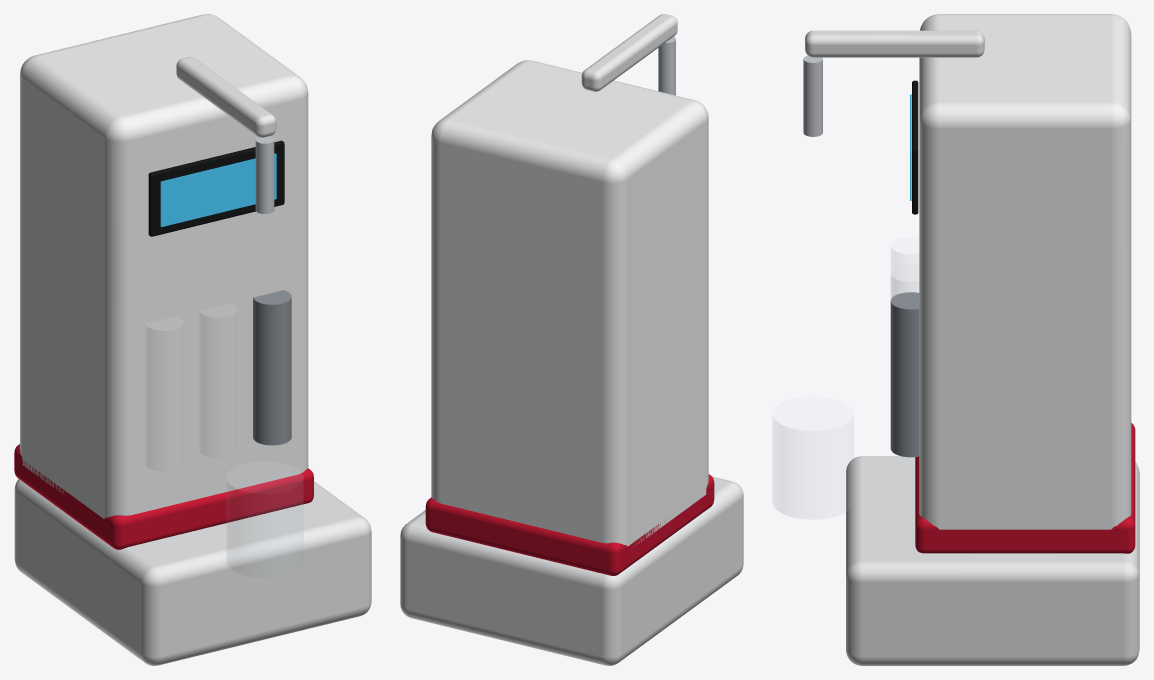
Rendered from nsu-1.glb.
3 views of the same model, side by side, from view 1: azimuth 30°, elevation 25°; view 2: azimuth 150°, elevation 25°; view 3: azimuth 270°, elevation 25° (orthographic). The views are drawn at different scales.
Size of the model in its own units: 0.34 by 0.775 by 0.45.
